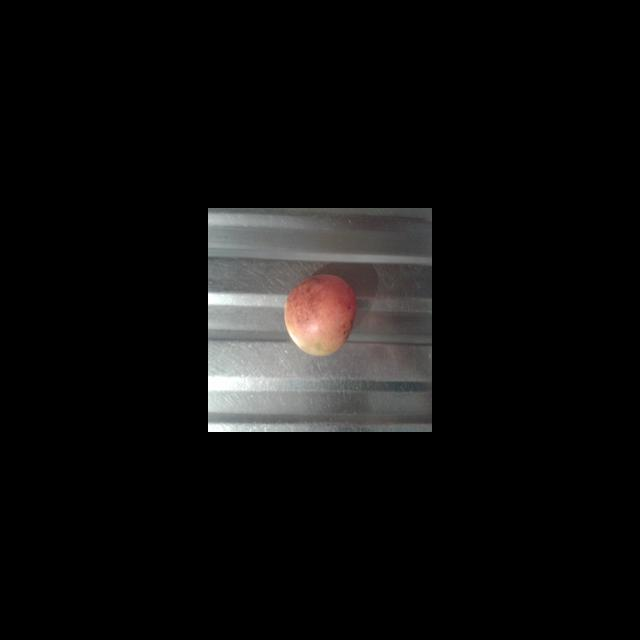Mango: (283, 273, 356, 356)
